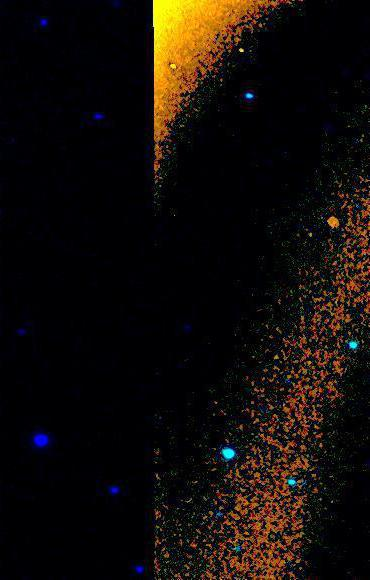star: (296, 220, 326, 250)
